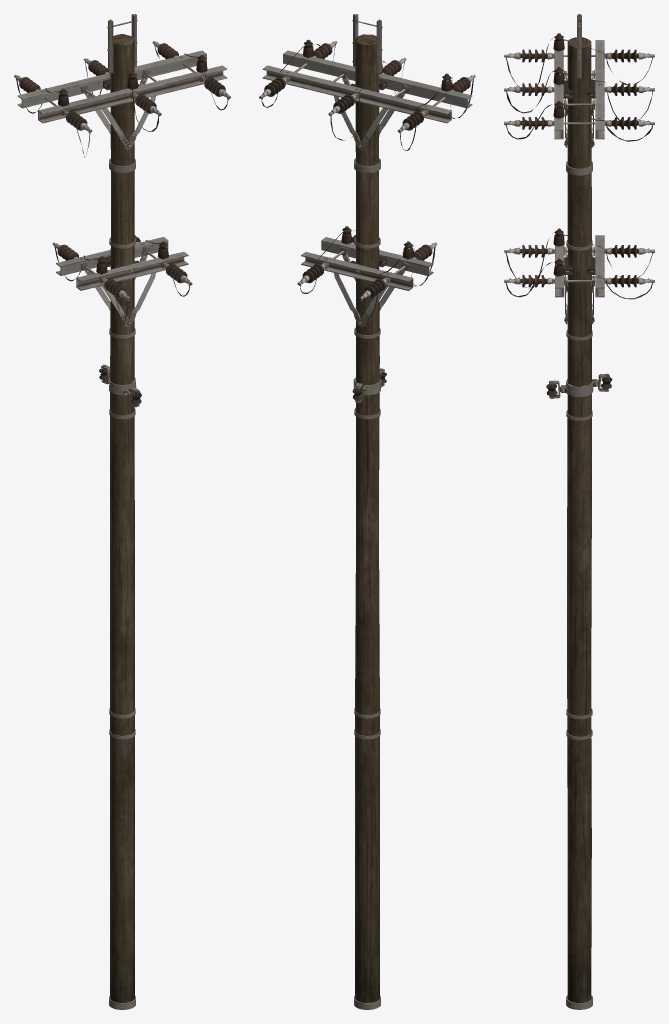
File: poste_fiacao.glb
3 renders of one model, left to right at view 1: azimuth 30°, elevation 25°; view 2: azimuth 150°, elevation 25°; view 3: azimuth 270°, elevation 25°, orthographic.
Visible parts, largest first — view 1: preset_02_pole, preset_02_connection_large_01, preset_02_connection_small_01, preset_02_cap; view 2: preset_02_pole, preset_02_connection_large_01, preset_02_connection_small_01, preset_02_cap; view 3: preset_02_pole, preset_02_connection_large_01, preset_02_connection_small_01, preset_02_connection_single_01_02, preset_02_connection_single_01.
Boxes of the visible parts, x1,y1,x2,y2 form: preset_02_pole: (110, 34, 134, 1002); preset_02_connection_large_01: (14, 41, 230, 157); preset_02_connection_small_01: (52, 235, 192, 326); preset_02_cap: (107, 14, 137, 72); preset_02_pole: (355, 34, 379, 1002); preset_02_connection_large_01: (259, 39, 475, 150); preset_02_connection_small_01: (297, 226, 437, 326); preset_02_cap: (352, 14, 382, 72); preset_02_pole: (567, 37, 591, 1002); preset_02_connection_large_01: (504, 33, 654, 147); preset_02_connection_small_01: (504, 228, 654, 323); preset_02_connection_single_01_02: (566, 373, 612, 392); preset_02_connection_single_01: (546, 380, 593, 398).
Size of the model in its own units: 1.2 by 6.13 by 0.8522.
2 materials, 2 textured.
